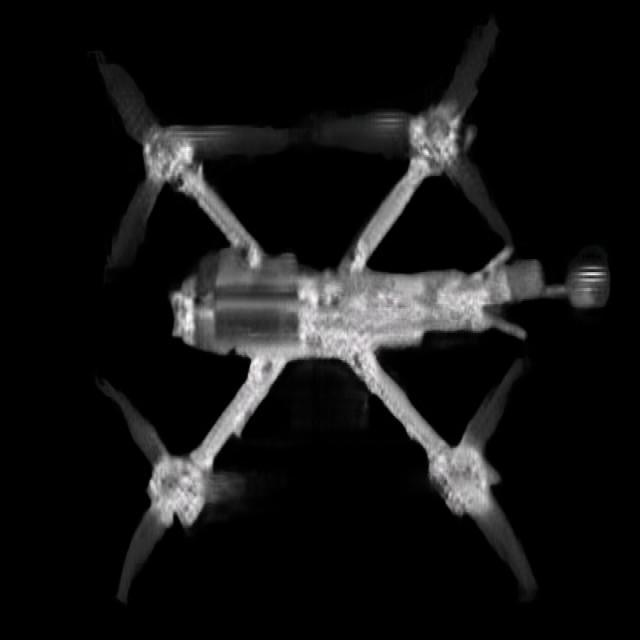drone: (61, 15, 612, 609)
